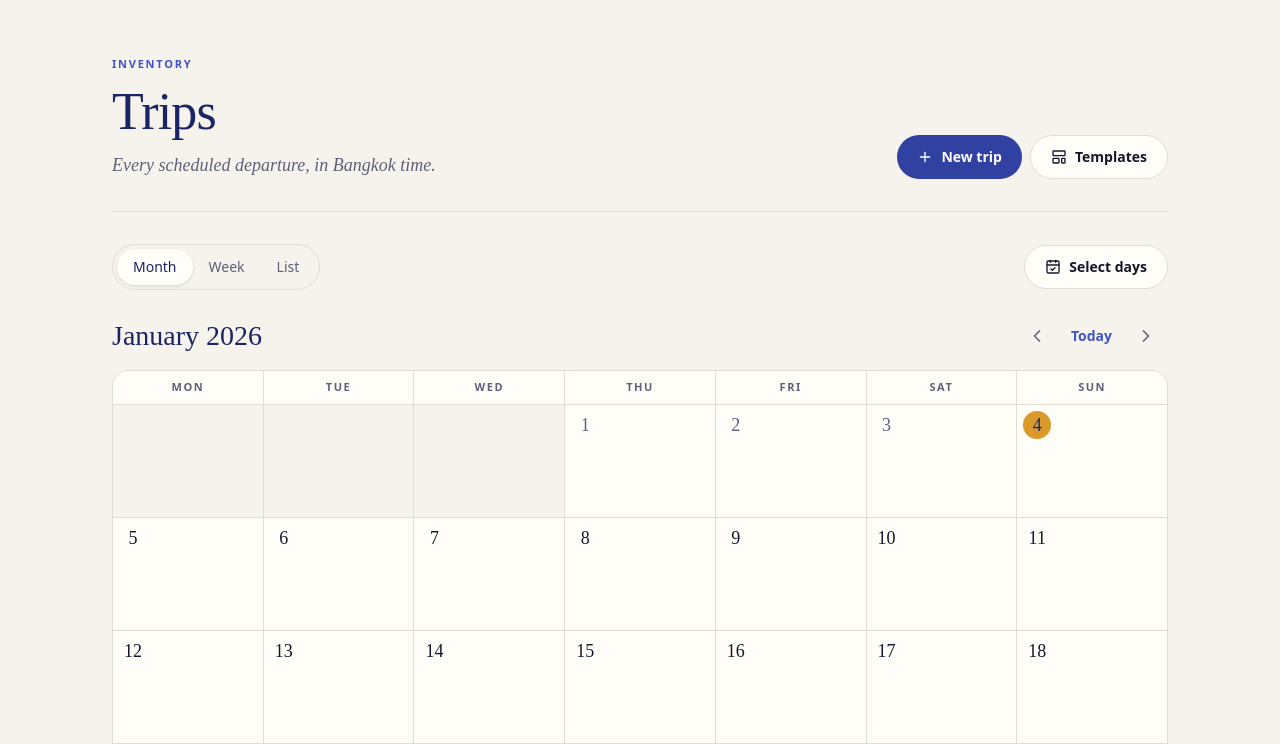
AdminTripsPage scheduling › explains what is missing instead of a form when there is no route or van
Step 1. Click the button "New trip" → click(960, 157), box [897, 135, 1022, 179]
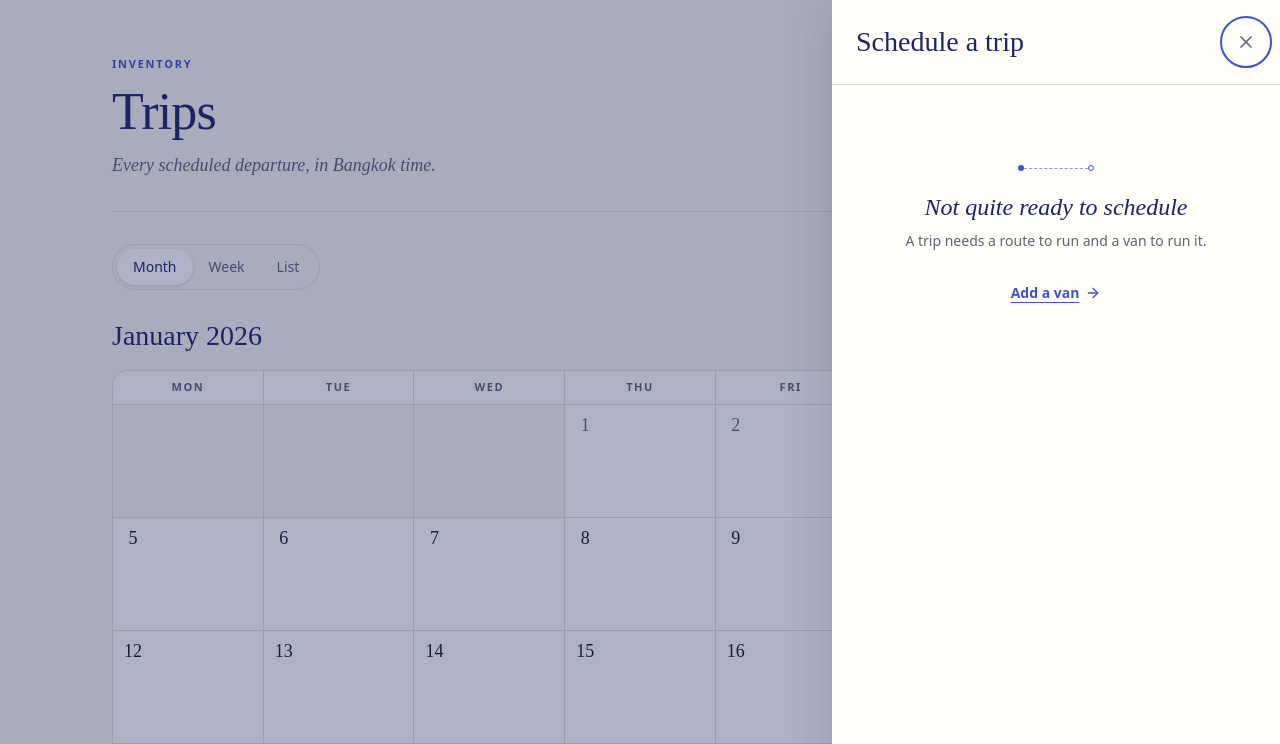
Now the text "Not quite ready to schedule" is shown, box [924, 191, 1188, 223]
